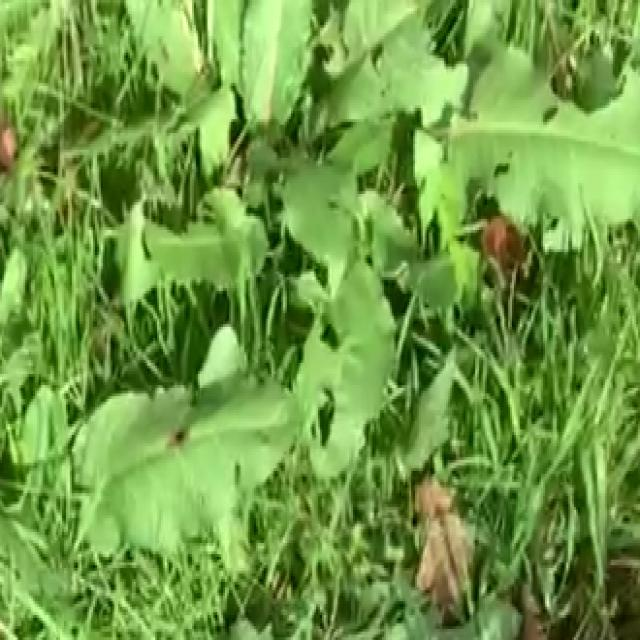organic waste: (68, 0, 640, 626)
